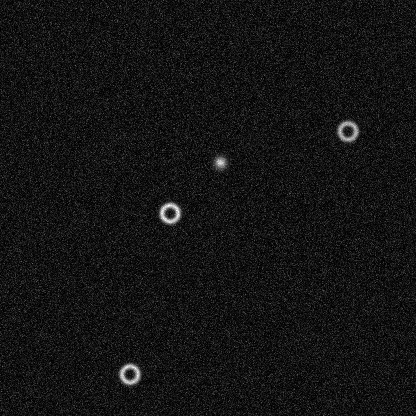Ring: (335, 118, 359, 142), (117, 361, 141, 385), (157, 200, 181, 224)
Spot: (212, 154, 228, 170)
